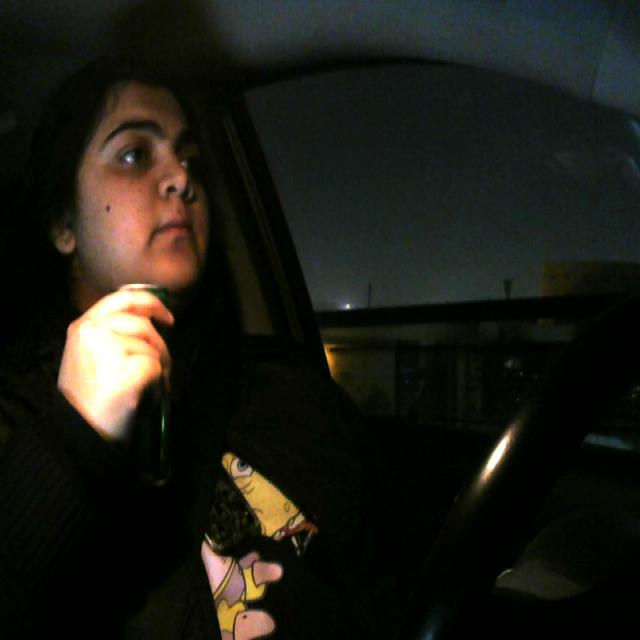drinking: (111, 268, 179, 475)
